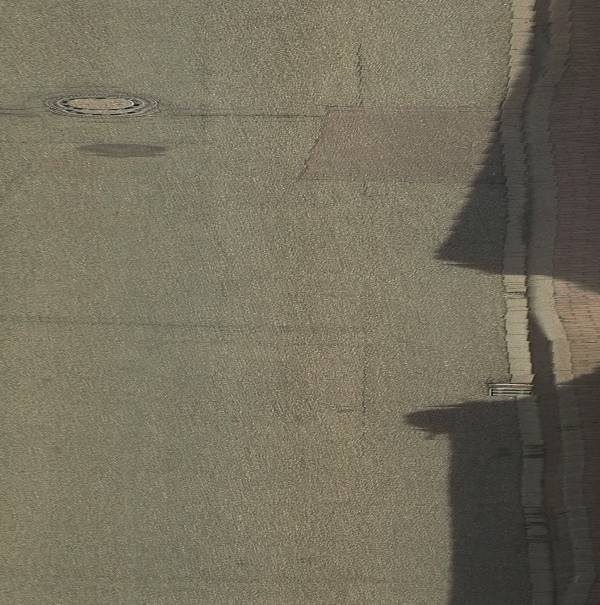road_damage: (276, 88, 490, 200), (167, 103, 343, 125), (64, 132, 183, 163)
